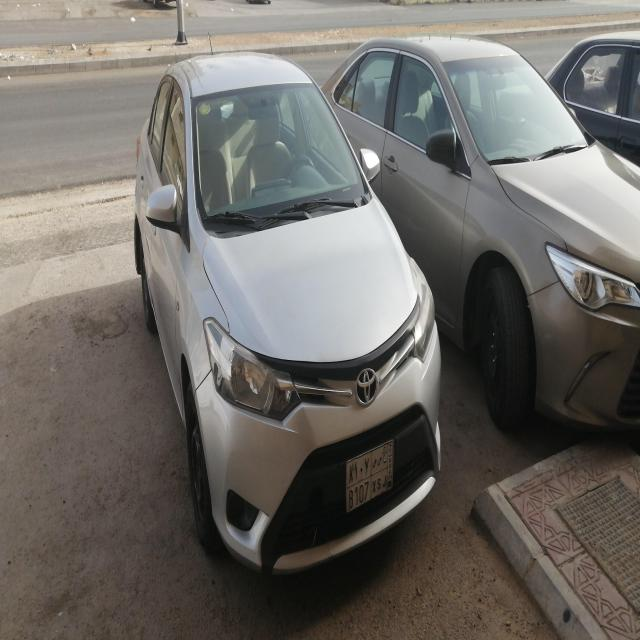license_plate: (346, 437, 394, 516)
